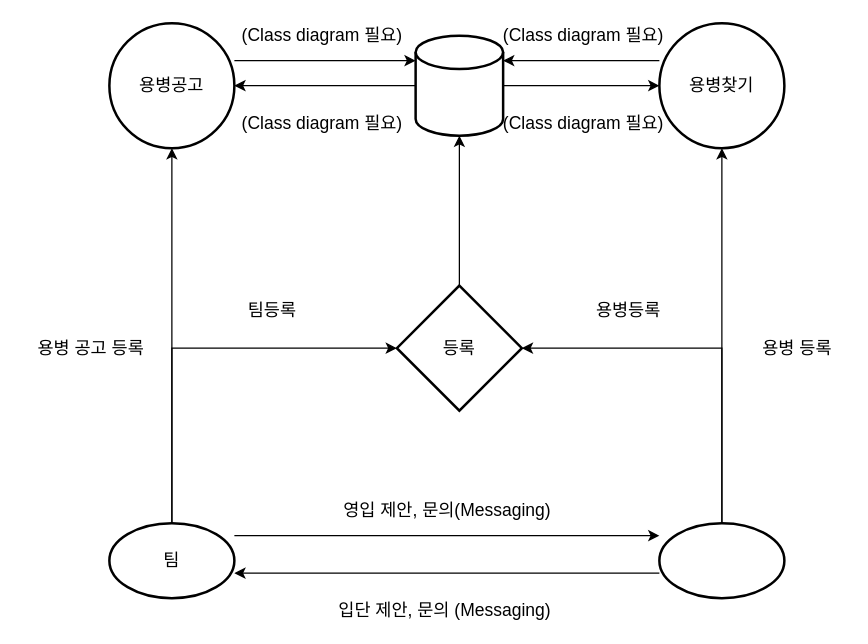
This 868x644 diagram has some shape labels left out. The centre of each missing label's shape, as x and y in pixels:
Data Centre: (459,85)
개인: (721,560)
